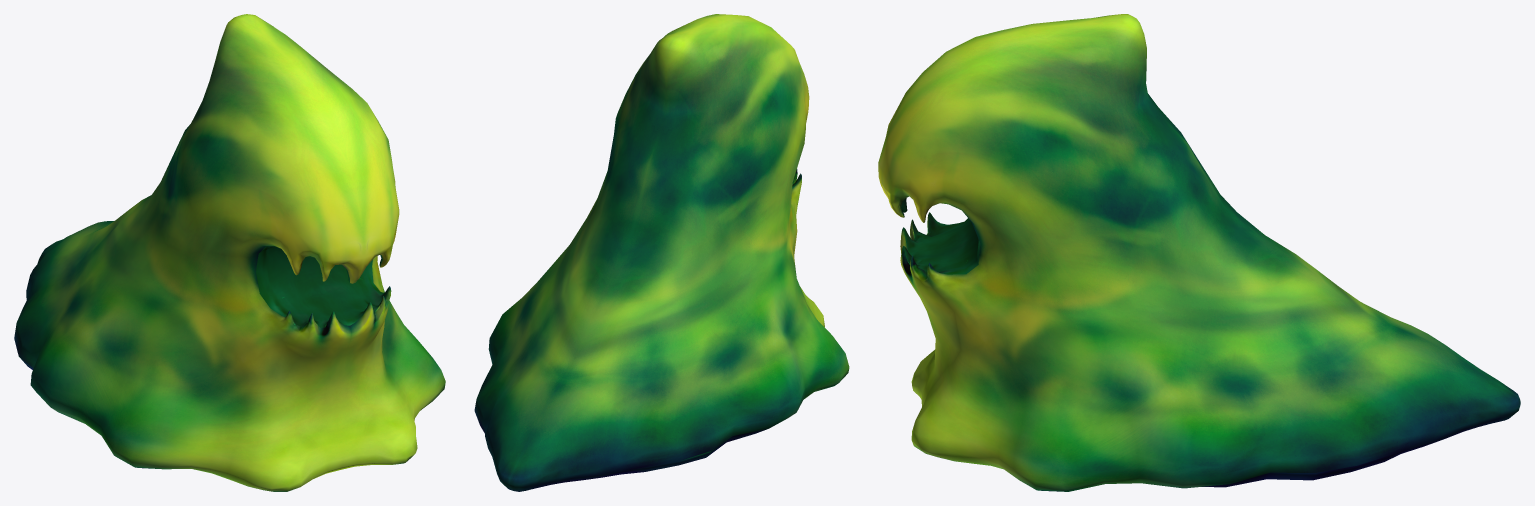
Rendered from Ascent_Slime.fbx.
3 views of the same model, side by side, from view 1: azimuth 30°, elevation 25°; view 2: azimuth 150°, elevation 25°; view 3: azimuth 270°, elevation 25° (orthographic). The views are drawn at different scales.
Visible parts, largest first — view 1: slimelow1:Group2; view 2: slimelow1:Group2; view 3: slimelow1:Group2.
Part boxes in pixels (<box>): slimelow1:Group2: <box>14,14,445,491</box>; slimelow1:Group2: <box>474,14,849,491</box>; slimelow1:Group2: <box>878,14,1520,491</box>.
Size of the model in its own units: 3.03 by 3.35 by 4.8.
